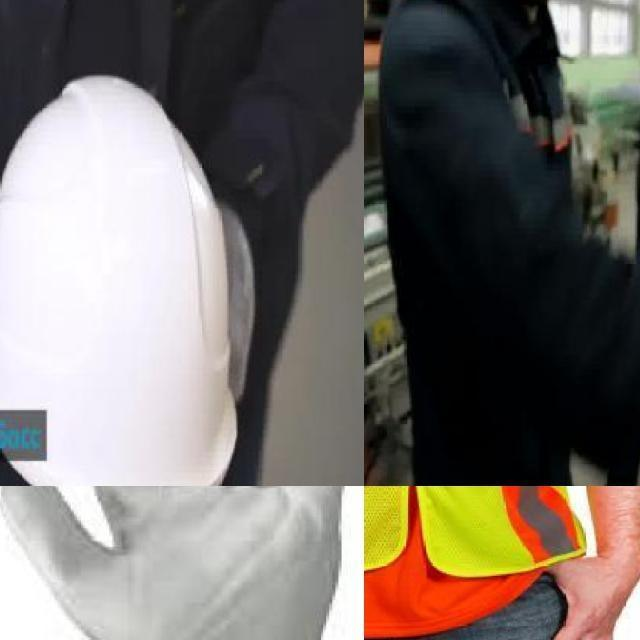apron: (0, 486, 364, 640)
